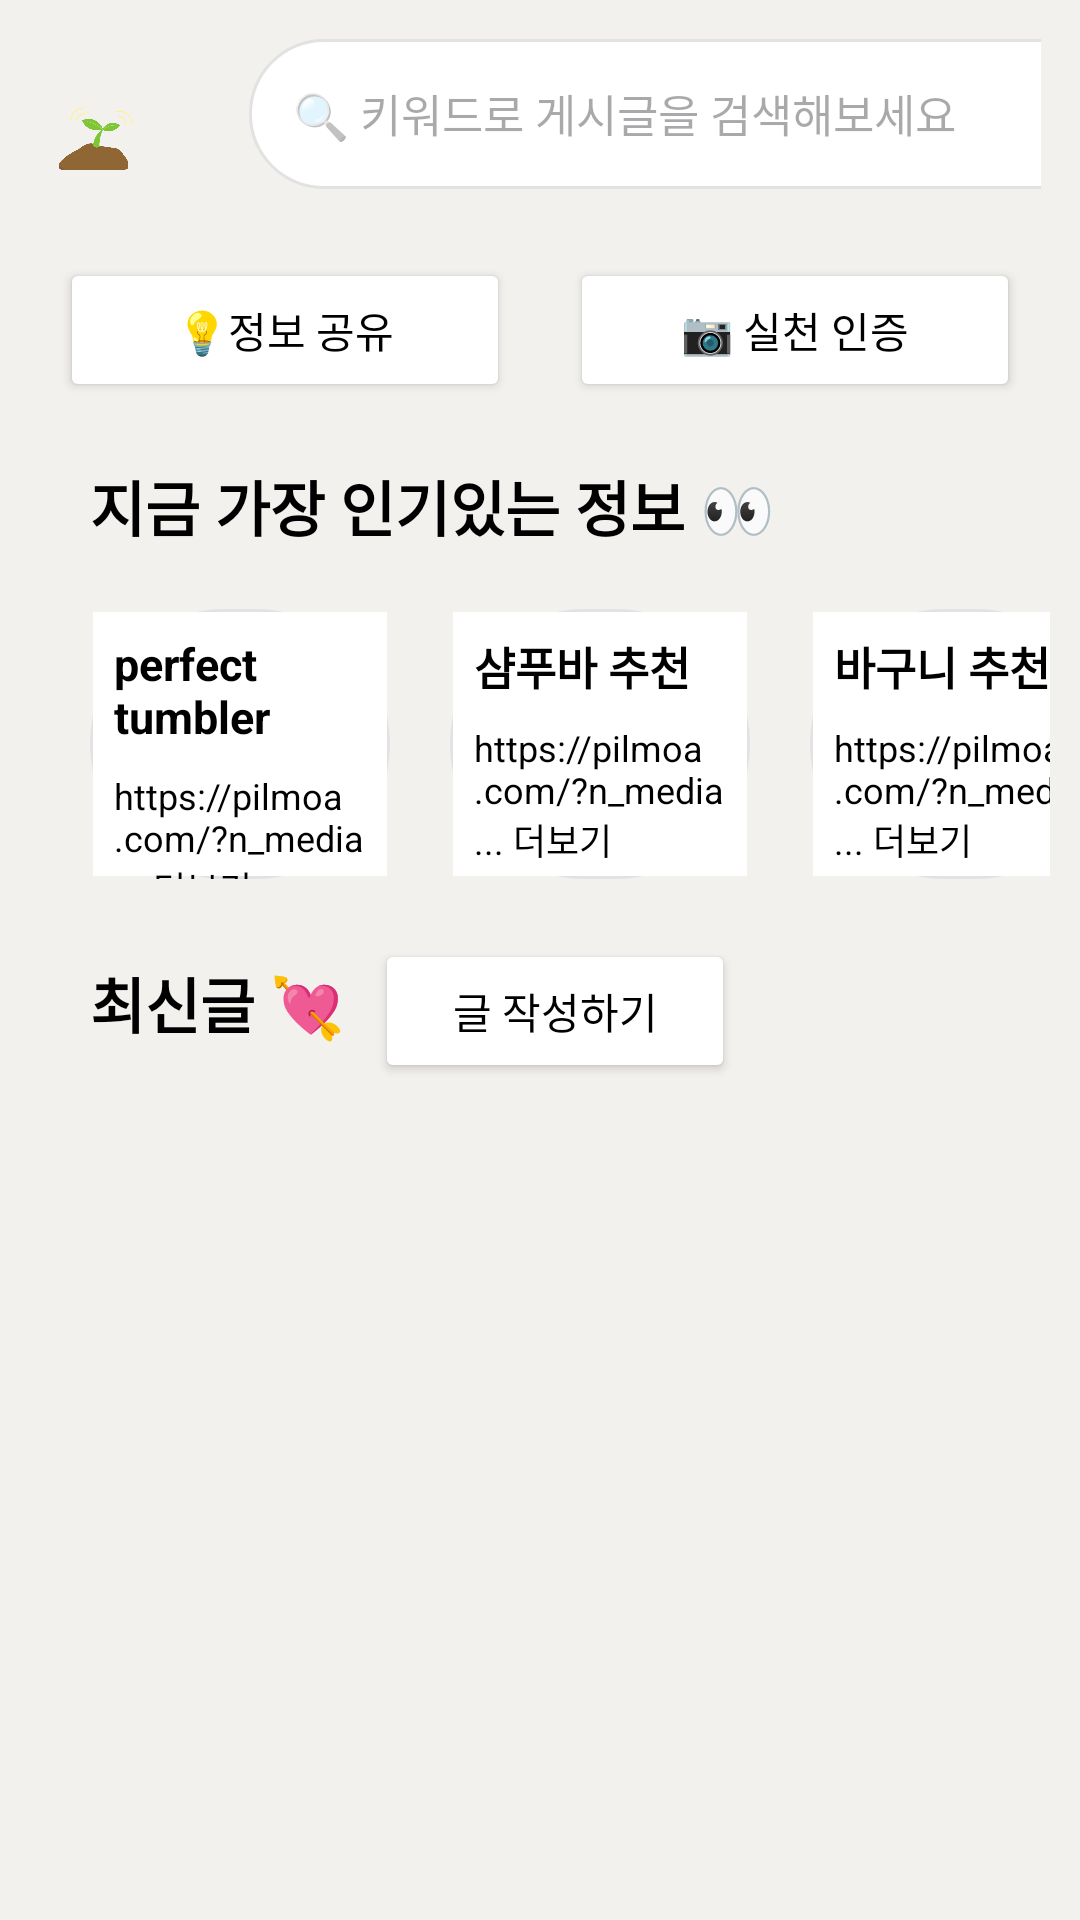

Icons on this 1080 x 1920 Android screen, each with the point to tap as [x,y]:
sprout: [96,138]
